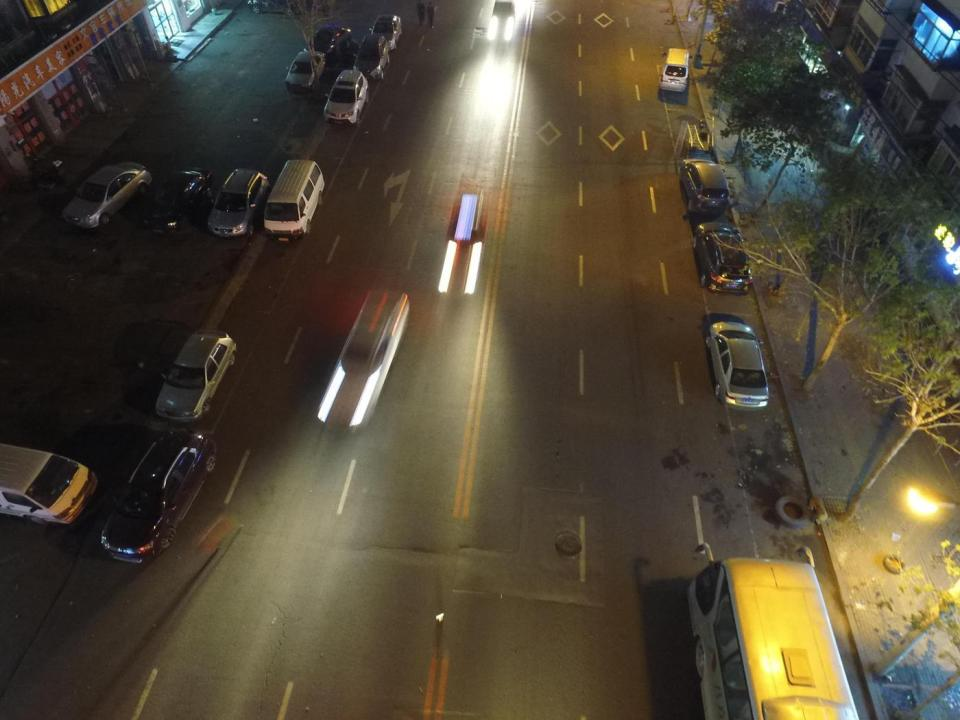bus: (681, 541, 858, 720)
car: (100, 430, 216, 564), (319, 291, 409, 428), (1, 442, 98, 524), (155, 330, 239, 421), (61, 163, 150, 237), (704, 322, 770, 410), (209, 169, 274, 240), (692, 222, 753, 296), (145, 166, 208, 235), (447, 185, 488, 256), (683, 159, 730, 213), (325, 69, 368, 122), (286, 51, 325, 90), (354, 33, 386, 79), (308, 26, 350, 58), (372, 14, 402, 51), (492, 0, 515, 38)
van: (264, 160, 324, 243), (661, 47, 688, 91)
